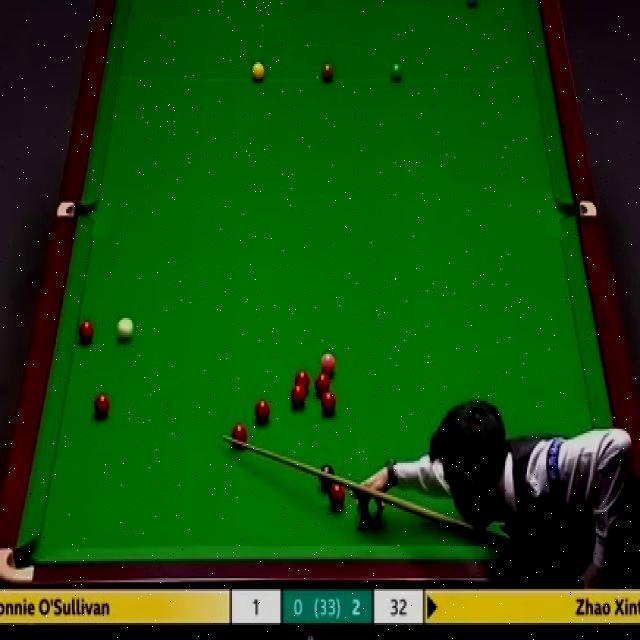black-ball: (317, 463, 336, 494)
blue-ball: (464, 0, 480, 11)
brown-ball: (321, 62, 335, 84)
green-ball: (389, 62, 404, 85)
pink-ball: (317, 351, 336, 376)
red-ball: (91, 389, 111, 421), (230, 423, 249, 453), (328, 484, 346, 509), (254, 398, 271, 424), (77, 319, 93, 345), (290, 385, 306, 410), (293, 370, 311, 392), (321, 390, 336, 415), (314, 374, 331, 394)
white-ball: (114, 315, 136, 346)
yellow-ball: (251, 61, 266, 84)
